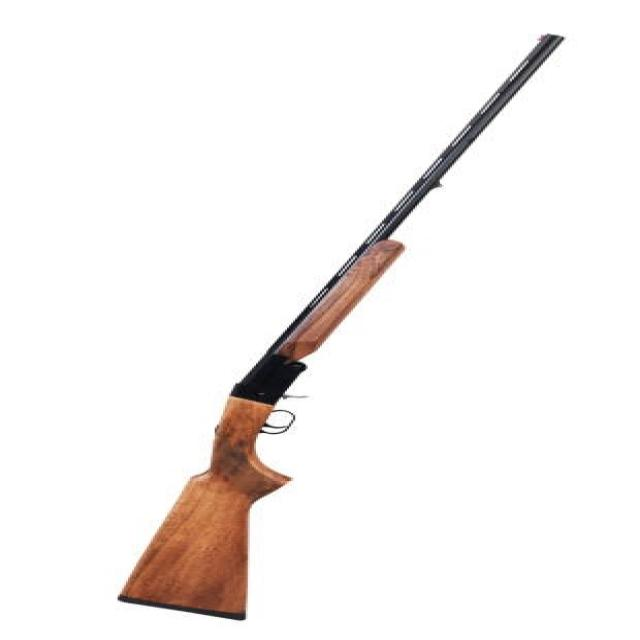rifle: (102, 25, 581, 631)
